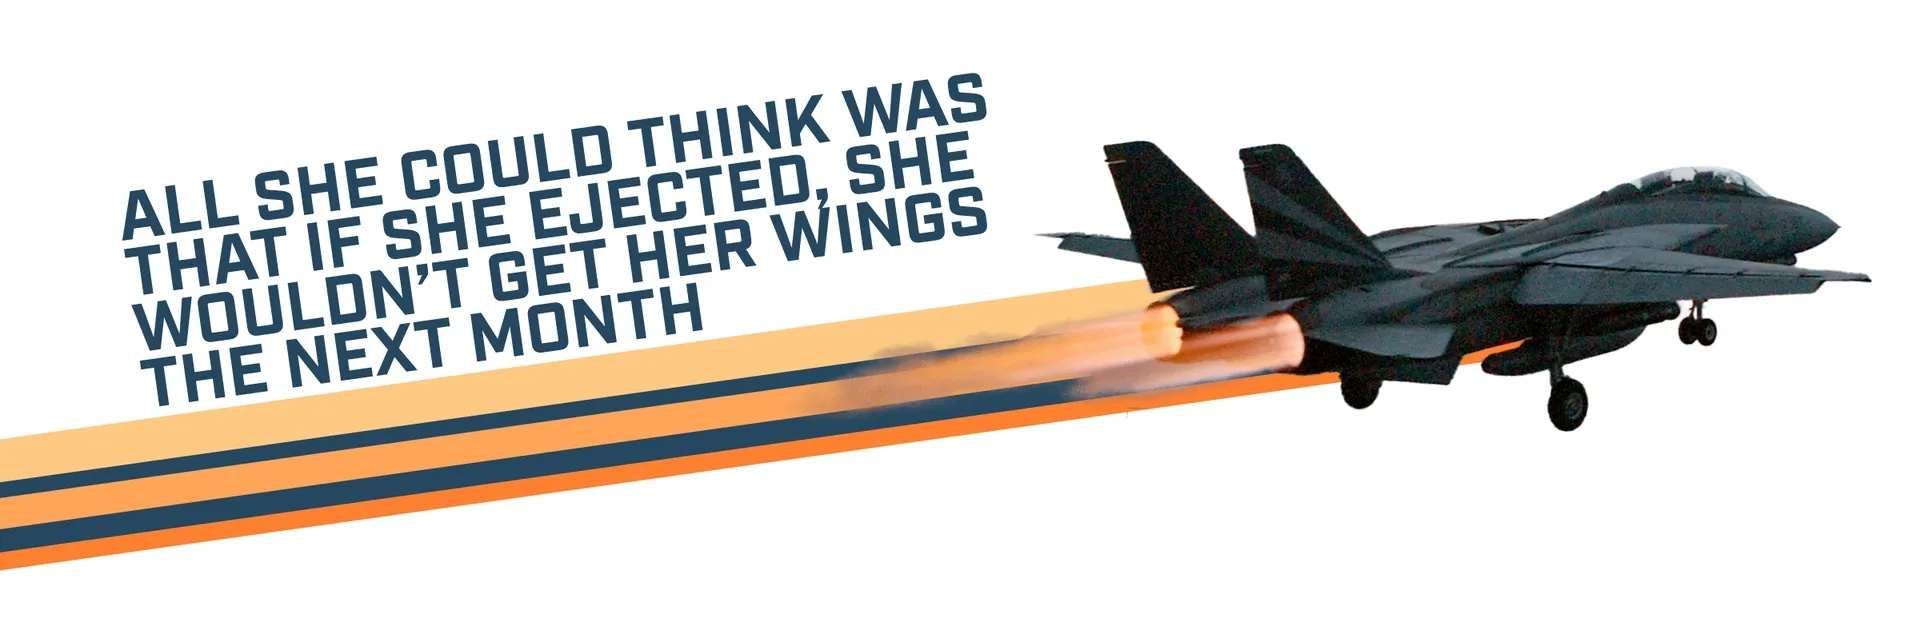F14: (1032, 140, 1872, 431)
